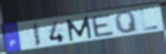4: (48, 20, 65, 44)
E: (90, 13, 116, 39)
I: (31, 22, 42, 48)
L: (139, 8, 160, 32)
M: (65, 15, 93, 42)
Q: (114, 10, 140, 34)
